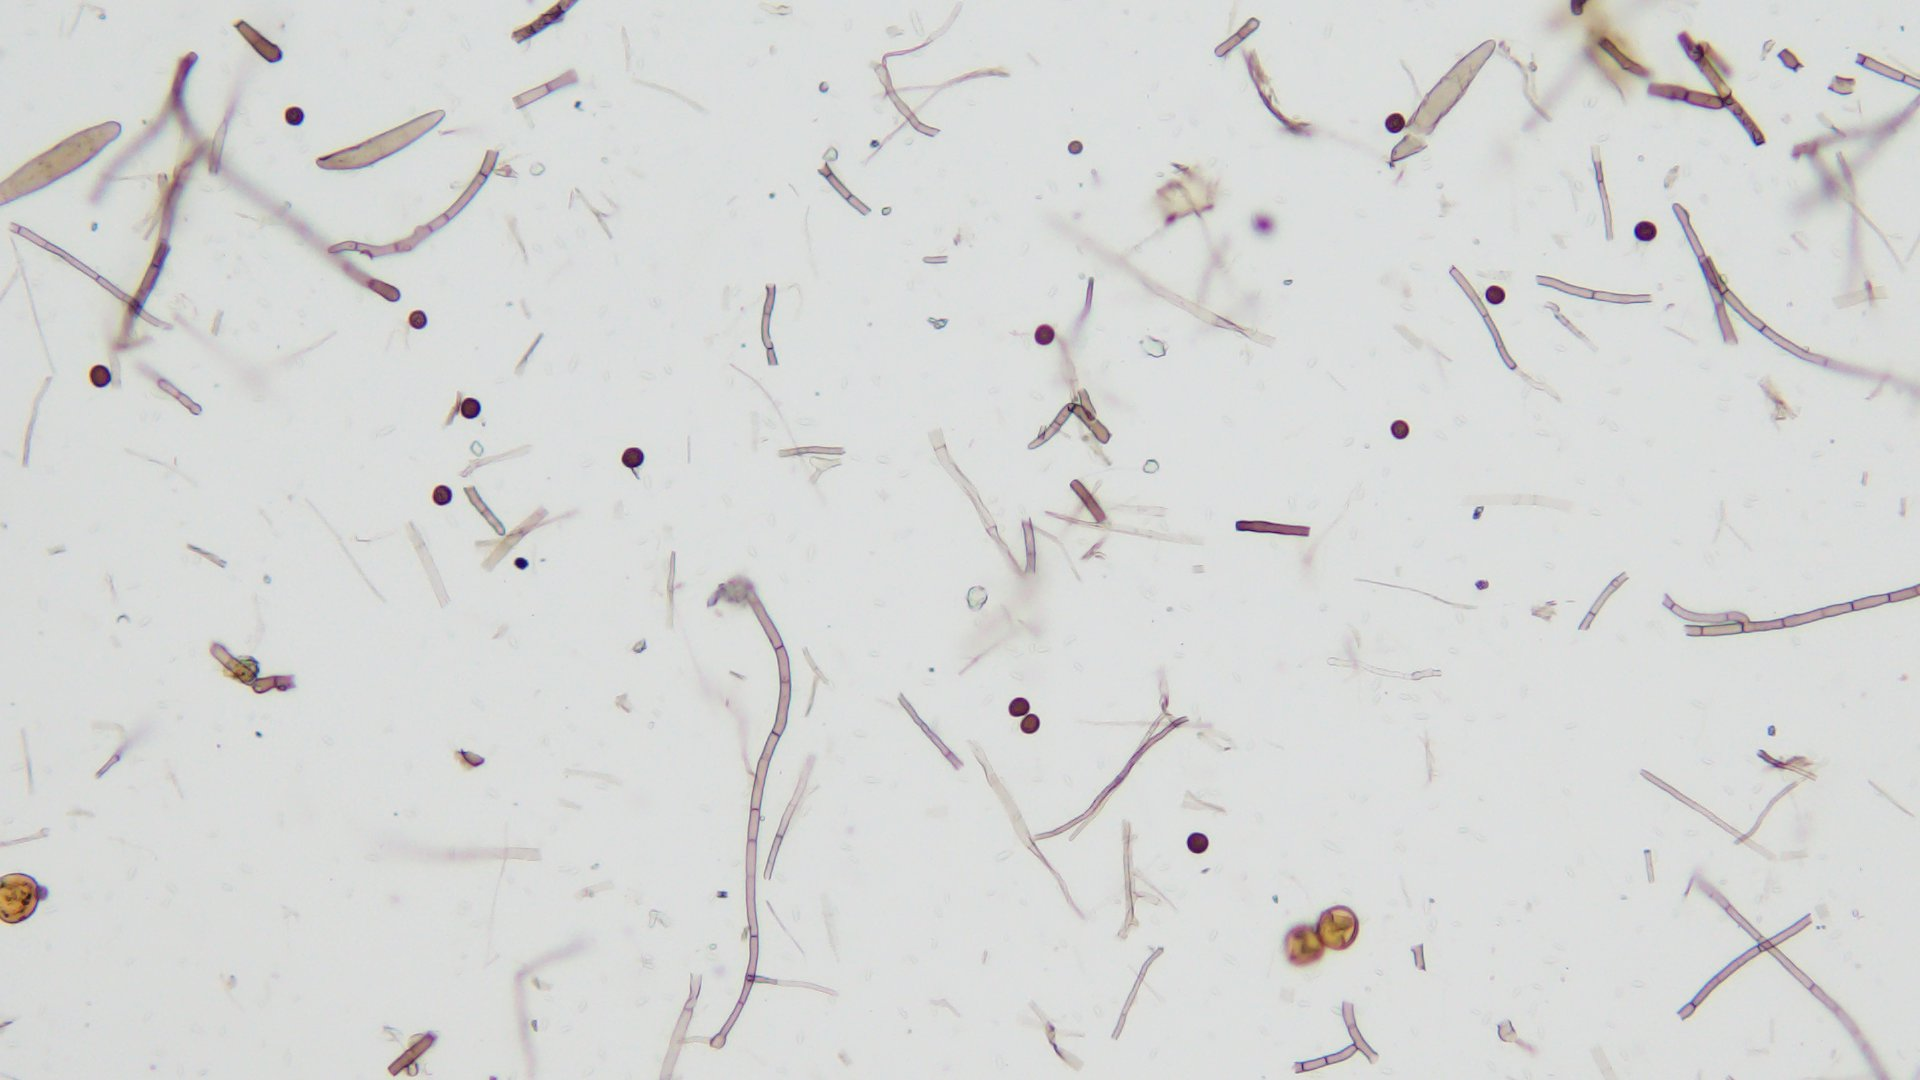dbb_spore: (1393, 46, 1498, 167), (3, 127, 119, 206), (311, 108, 444, 171)
shs_spore: (1634, 218, 1658, 243), (459, 396, 483, 419), (284, 103, 306, 127), (621, 443, 644, 467), (1185, 831, 1209, 853), (1033, 323, 1056, 345), (88, 364, 109, 389), (1382, 112, 1404, 135), (1007, 698, 1030, 716), (1391, 419, 1410, 442), (1021, 715, 1040, 735), (1485, 284, 1505, 303), (433, 484, 451, 505), (410, 309, 427, 328)
xb_spore: (1, 870, 36, 923), (1319, 906, 1360, 949), (1284, 924, 1323, 965)
